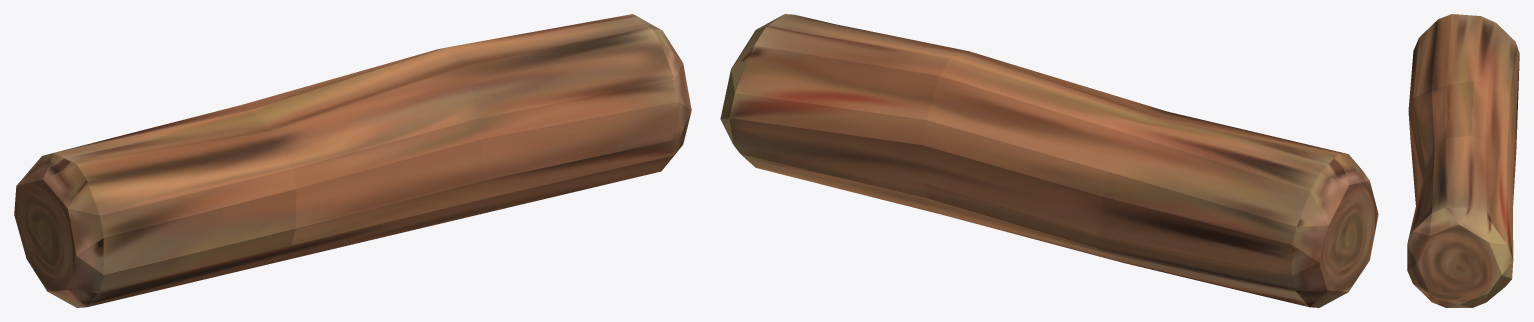
File: wood-block-05.obj
3 views of the same model, side by side, from view 1: azimuth 30°, elevation 25°; view 2: azimuth 150°, elevation 25°; view 3: azimuth 270°, elevation 25° (orthographic). The views are drawn at different scales.
Visible parts, largest first — view 1: wood-block-05; view 2: wood-block-05; view 3: wood-block-05.
Part boxes in pixels (left/top/right/bottom): wood-block-05: left=14, top=14, right=691, bottom=307; wood-block-05: left=720, top=14, right=1378, bottom=307; wood-block-05: left=1407, top=14, right=1519, bottom=307.
Bounding box in the file's own units: 1.57 × 0.3787 × 0.353.
